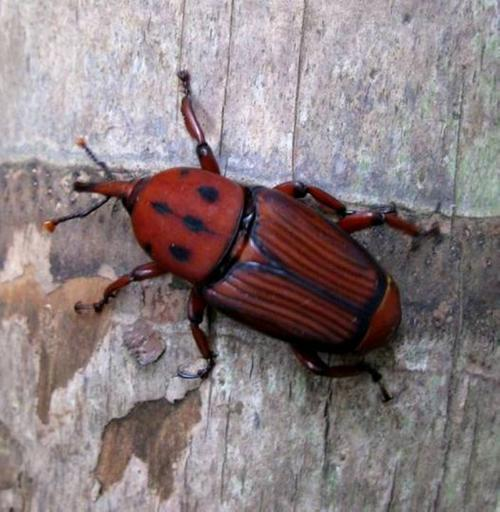Curculionidae: (42, 71, 440, 404)
